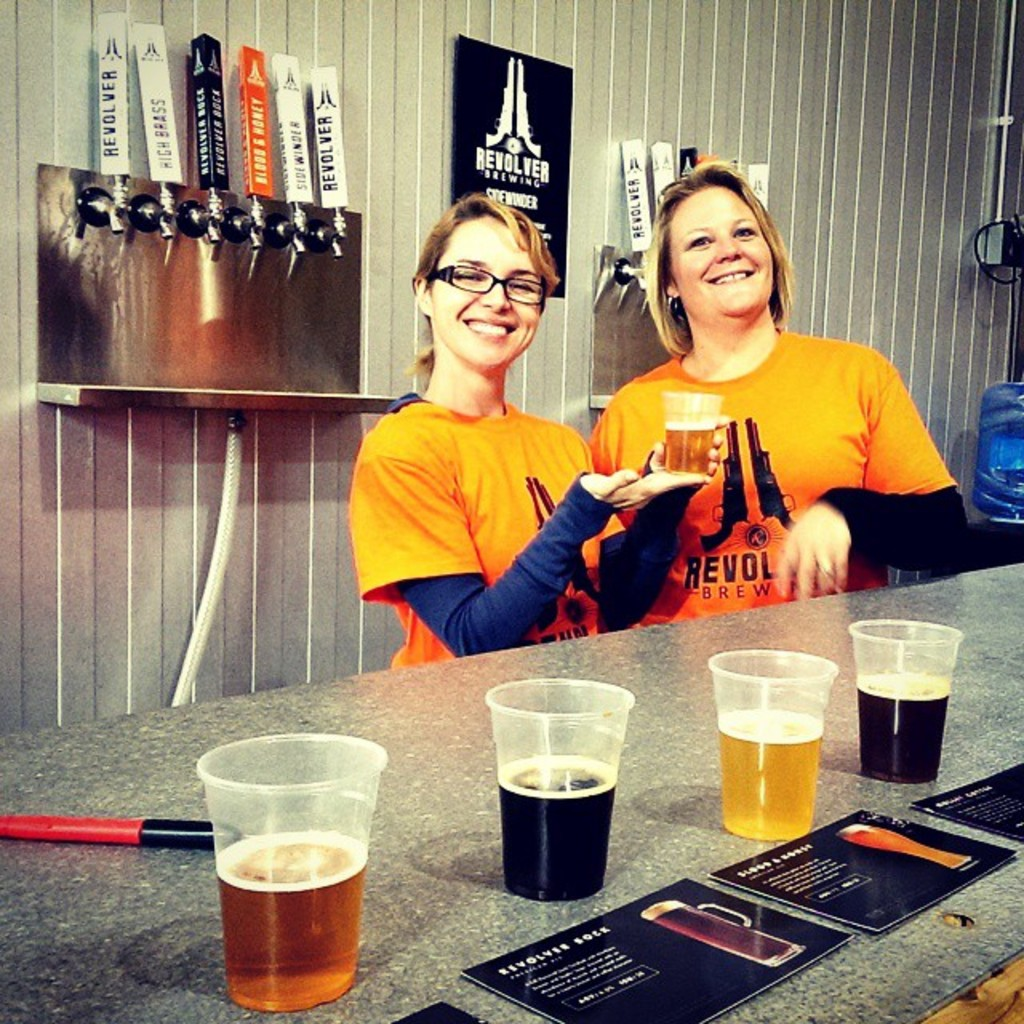Beer: (230, 835, 368, 1017), (721, 711, 817, 841), (659, 393, 723, 468)
